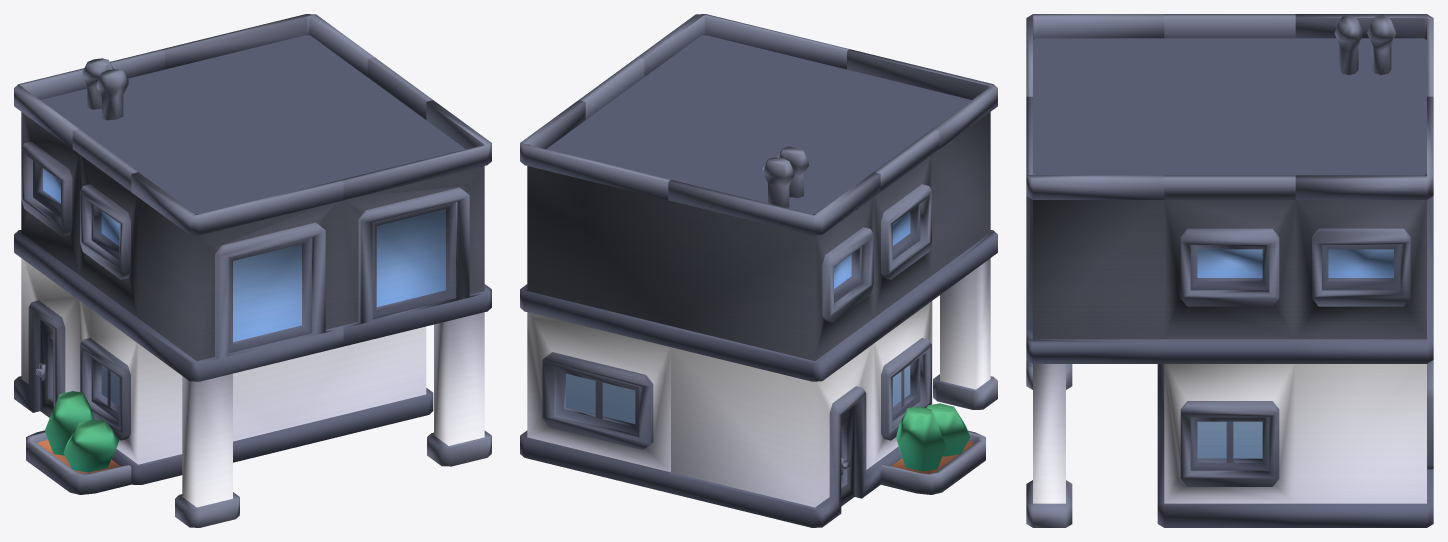
File: n1_building-type-p_lev1.002.glb
3 renders of one model, left to right at view 1: azimuth 30°, elevation 25°; view 2: azimuth 150°, elevation 25°; view 3: azimuth 270°, elevation 25°, orthographic. The views are drawn at different scales.
Parts seen in each view (by area): view 1: n1_building-type-p_lev1.002; view 2: n1_building-type-p_lev1.002; view 3: n1_building-type-p_lev1.002.
Boxes of the visible parts, box(x1,y1,x2,y2) form: n1_building-type-p_lev1.002: box(14, 14, 491, 527); n1_building-type-p_lev1.002: box(520, 14, 997, 527); n1_building-type-p_lev1.002: box(1026, 14, 1433, 527).
Size of the model in its own units: 7.67 by 6.91 by 6.77.
1 material, 1 textured.
